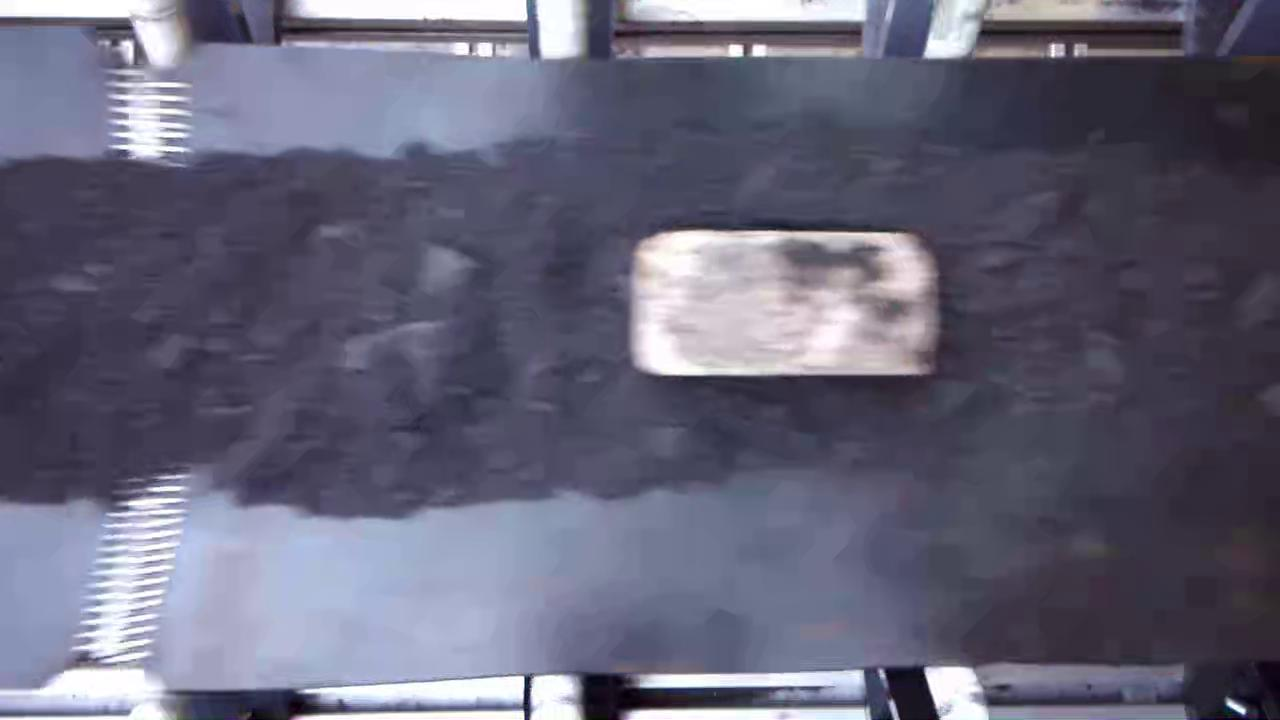conveyor: (7, 65, 1280, 663)
